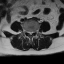CCS_normal: (29, 28, 31, 37)
LFS_normal: (33, 28, 35, 34)
LLS_normal: (31, 29, 33, 36)
RFS_normal: (26, 28, 28, 34)
RLS_normal: (28, 28, 29, 36)
